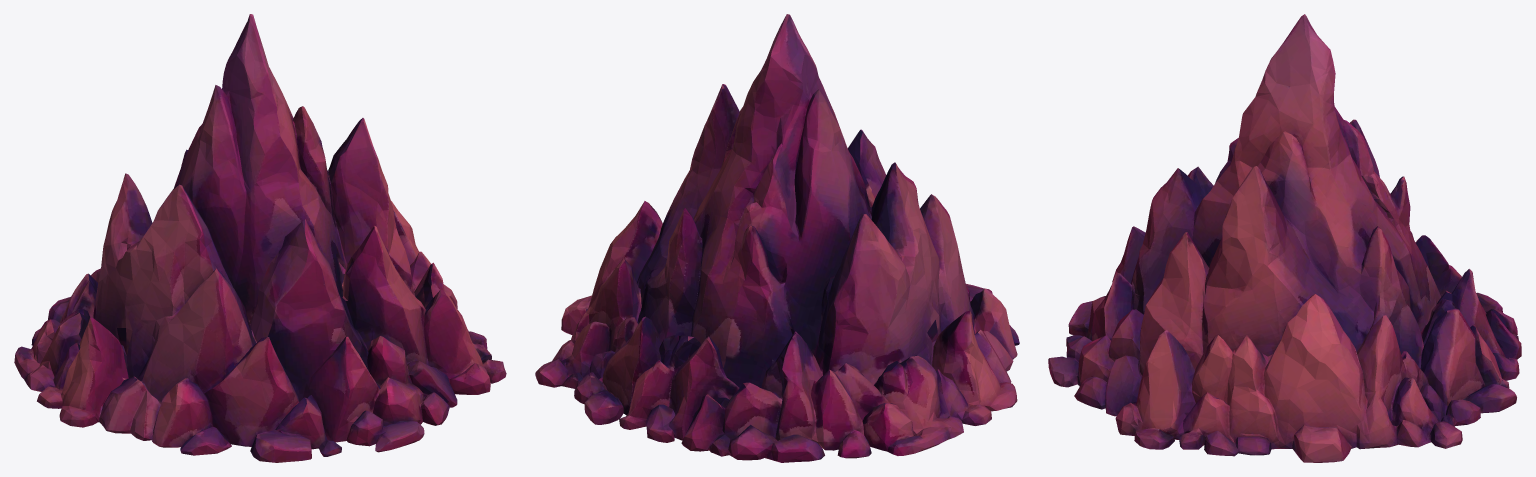
The model's file is crystal_ore_2.glb.
3 renders of one model, left to right at view 1: azimuth 30°, elevation 25°; view 2: azimuth 150°, elevation 25°; view 3: azimuth 270°, elevation 25°, orthographic.
Bounding box in the file's own units: 1.97 × 1.58 × 1.95.
Materials: 1 (1 with a texture image).
